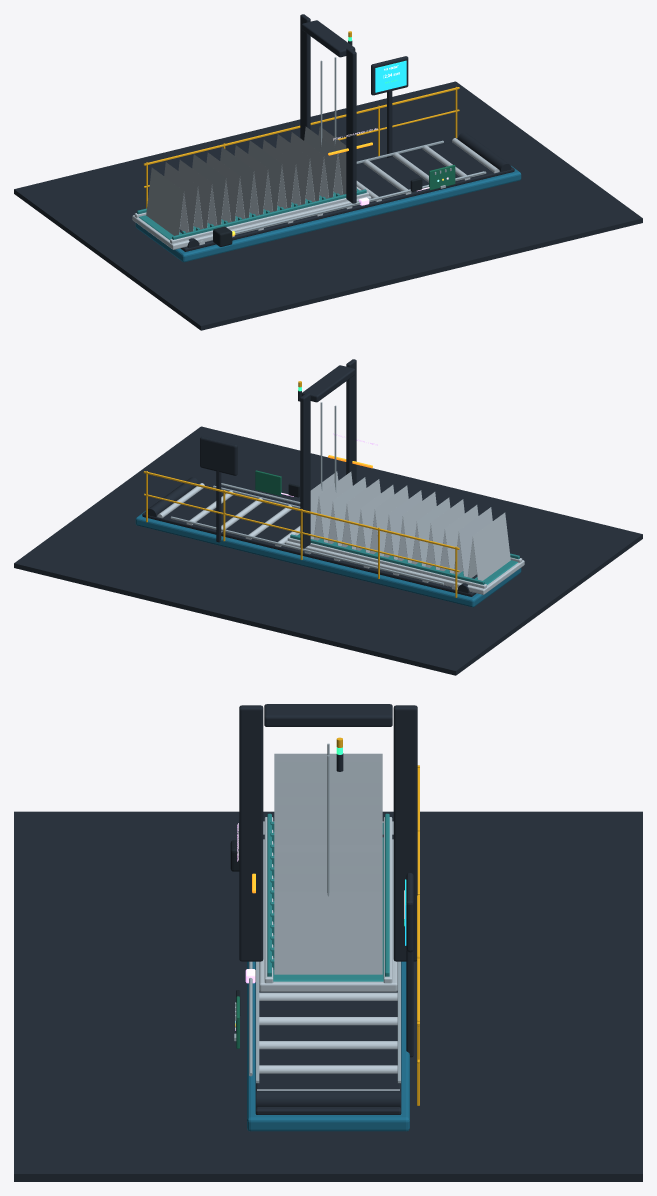
Rendered from stereo_vision_encoder_station.glb.
The picture shows the model from 3 angles, top to bottom: view 1: azimuth 30°, elevation 25°; view 2: azimuth 150°, elevation 25°; view 3: azimuth 270°, elevation 25°; orthographic projection. The views are drawn at different scales.
Visible parts, largest first — view 1: Factory floor, Moving belt, Conveyor chassis, Open folded fin 01, Fixed C-frame post, Fixed C-frame post.001, Open folded fin 06, Open folded fin 04, Open folded fin 10, Open folded fin 08, Open folded fin 02, Open folded fin 12 (+16 smaller); view 2: Factory floor, Moving belt, Conveyor chassis, Open folded fin 01, Fixed C-frame post.001, Radiator pallet, HMI housing, Fixed C-frame post, Open folded fin 06, Open folded fin 12, Open folded fin 04, Open folded fin 10 (+16 smaller); view 3: Factory floor, Moving belt, Open folded fin 13, Fixed C-frame post, Fixed C-frame post.001, Conveyor chassis, Fixed measurement crossbeam, End roller.001, Radiator pallet, Open folded fin 12, Open folded fin 08, Open folded fin 06 (+20 smaller).
Part boxes in pixels (box(x1,y1,x2,y2)): Factory floor: box(14, 81, 642, 330); Moving belt: box(180, 142, 514, 251); Conveyor chassis: box(135, 166, 521, 262); Open folded fin 01: box(146, 167, 188, 235); Fixed C-frame post: box(346, 47, 356, 203); Fixed C-frame post.001: box(300, 14, 310, 140); Open folded fin 06: box(220, 147, 259, 218); Open folded fin 04: box(192, 154, 231, 225); Open folded fin 10: box(276, 134, 315, 204); Open folded fin 08: box(248, 140, 287, 211); Open folded fin 02: box(164, 162, 203, 231); Open folded fin 12: box(304, 126, 343, 197); Factory floor: box(14, 426, 642, 675); Moving belt: box(142, 488, 476, 596); Conveyor chassis: box(135, 511, 521, 607); Open folded fin 01: box(468, 512, 510, 580); Fixed C-frame post.001: box(300, 392, 310, 548); Radiator pallet: box(285, 533, 524, 594); HMI housing: box(200, 436, 237, 475); Fixed C-frame post: box(346, 359, 356, 485); Open folded fin 06: box(397, 492, 436, 563); Open folded fin 12: box(313, 471, 352, 542); Open folded fin 04: box(425, 499, 464, 570); Open folded fin 10: box(341, 479, 380, 549); Factory floor: box(14, 811, 642, 1181); Moving belt: box(255, 962, 401, 1114); Open folded fin 13: box(274, 891, 382, 974); Fixed C-frame post: box(239, 705, 263, 961); Fixed C-frame post.001: box(393, 705, 417, 961); Conveyor chassis: box(247, 961, 409, 1131); Fixed measurement crossbeam: box(264, 704, 392, 726); End roller.001: box(256, 1090, 400, 1107); Radiator pallet: box(259, 821, 397, 991); Open folded fin 12: box(274, 874, 382, 891); Open folded fin 08: box(274, 828, 382, 844); Open folded fin 06: box(274, 805, 382, 819).
Size of the model in its own units: 30 by 11.35 by 22.
